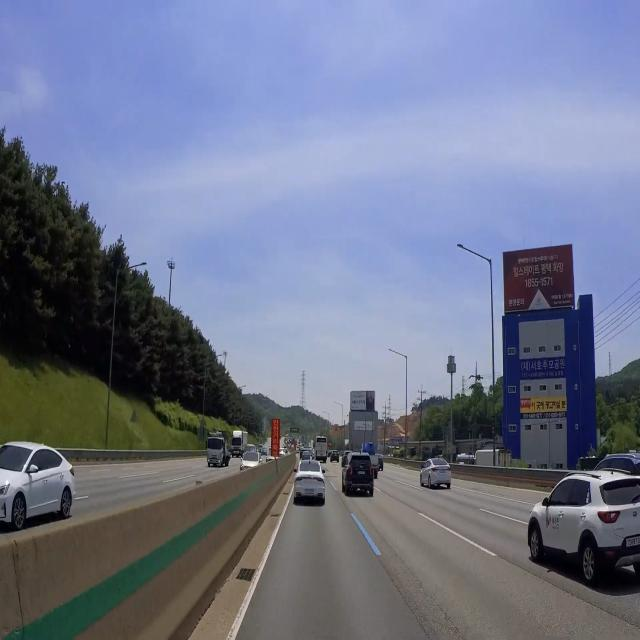car: (623, 532, 640, 556), (301, 486, 318, 503), (355, 467, 368, 480), (437, 467, 450, 478)
